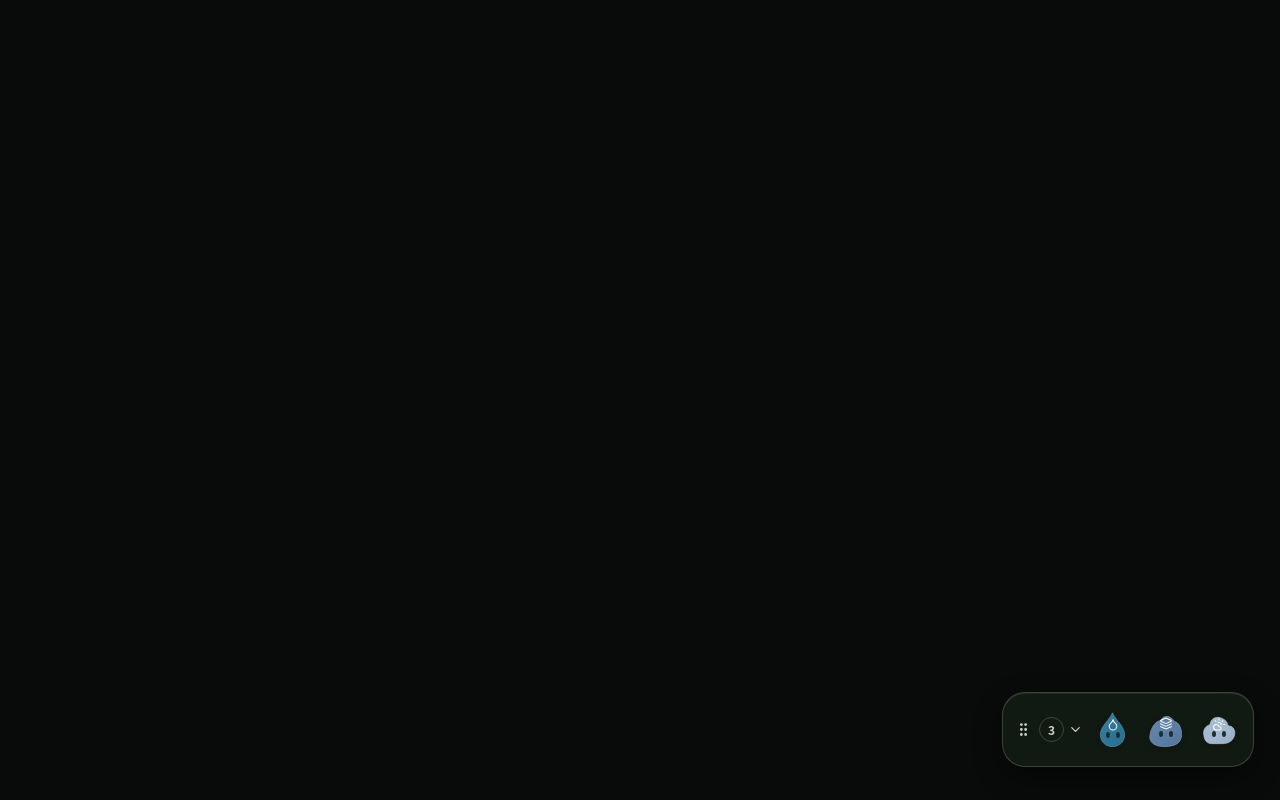
Test: explains when the backend has no published knowledge release
Click the button named "Open Water specialist".
click(1112, 730)  # box [1088,705,1137,754]
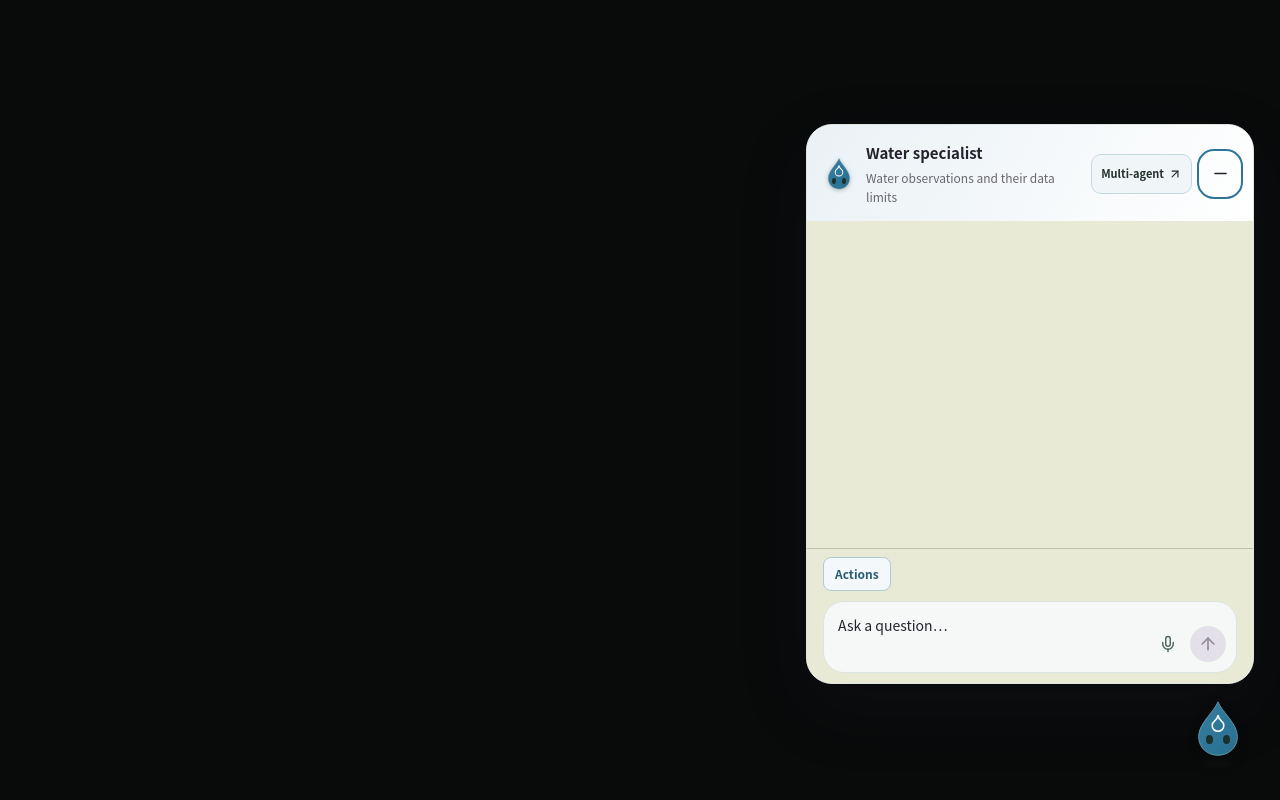
Type "Explain this area" into the text box named "Message Water specialist".
click(990, 638); type("Explain this area")  # box [838,614,1142,662]
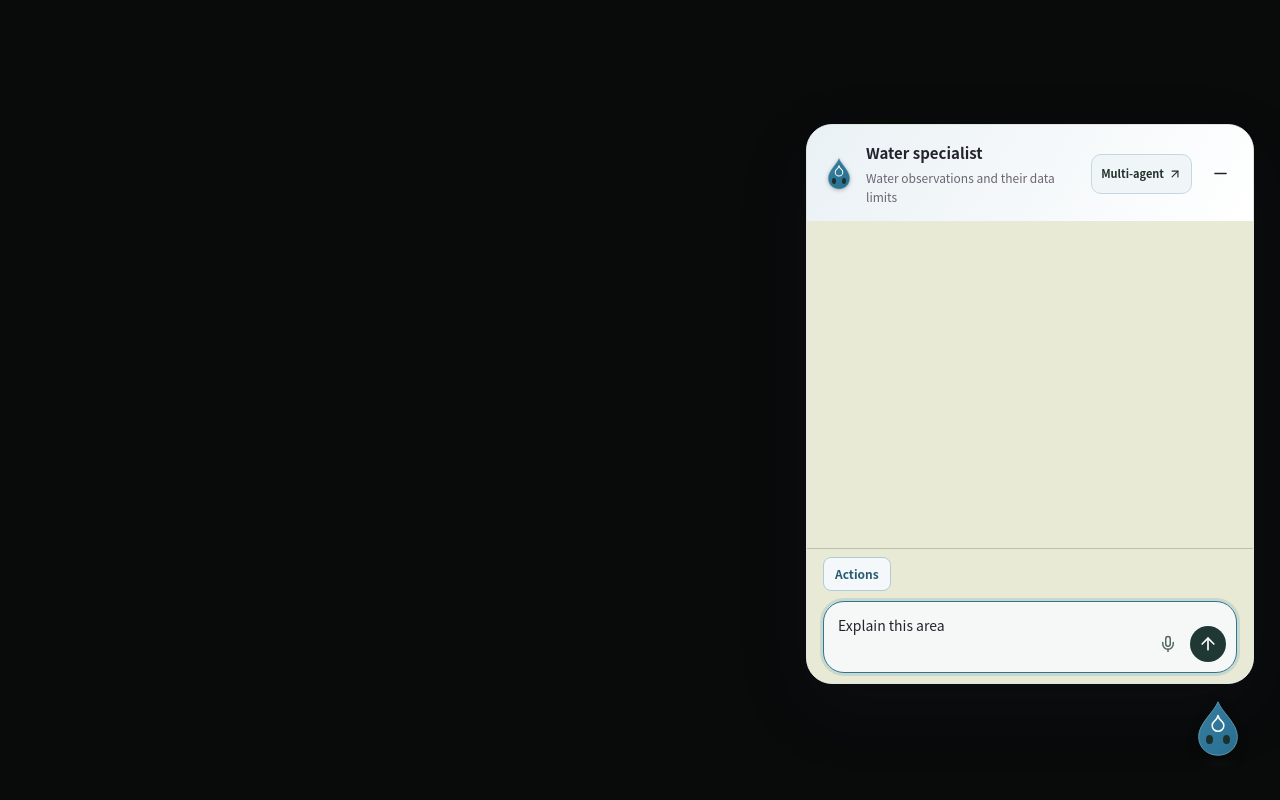
Click the button named "Send message".
click(1208, 644)  # box [1190,626,1226,662]
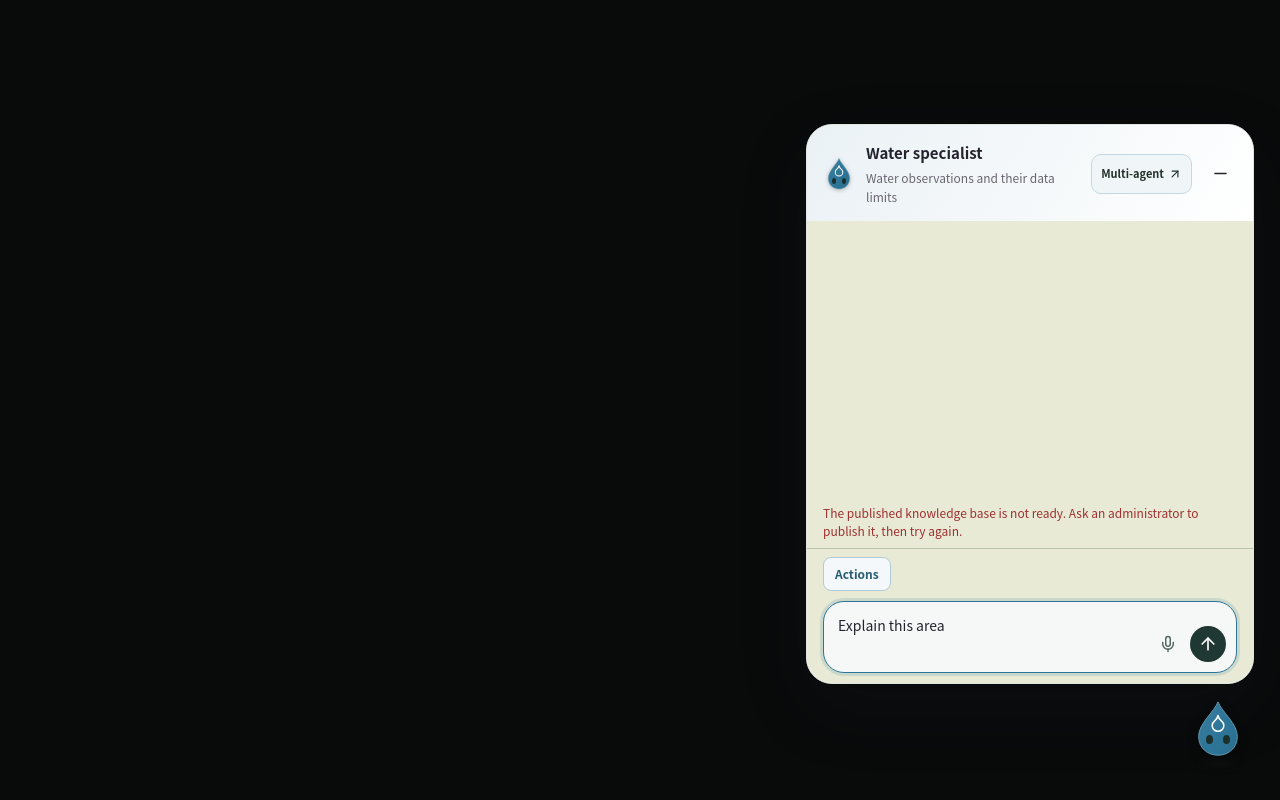
Expected: the message shows "published knowledge base is not ready", [823,504,1198,539]
